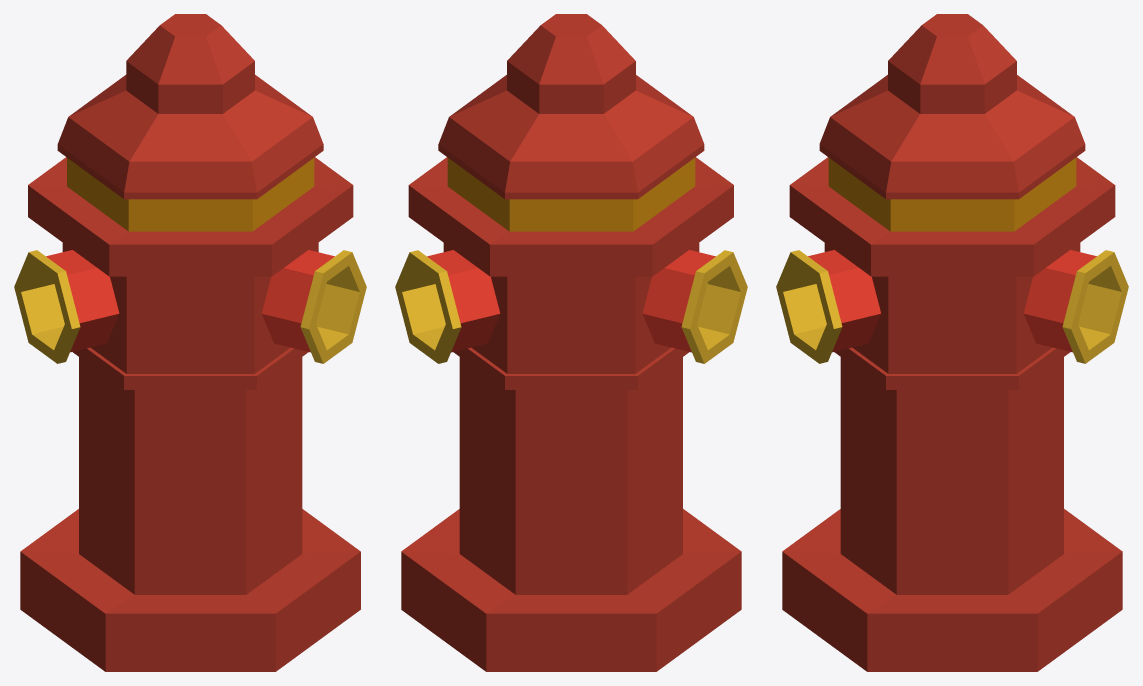
File: Fire Hydrant.fbx
3 views of the same model, side by side, from view 1: azimuth 30°, elevation 25°; view 2: azimuth 150°, elevation 25°; view 3: azimuth 270°, elevation 25° (orthographic).
Visible parts, largest first — view 1: Fire Hydrant; view 2: Fire Hydrant; view 3: Fire Hydrant.
Boxes of the visible parts, x1,y1,x2,y2 form: Fire Hydrant: [14, 14, 366, 671]; Fire Hydrant: [395, 14, 747, 671]; Fire Hydrant: [776, 14, 1128, 671].
Size of the model in its own units: 0.3641 by 0.4041 by 0.7387.
